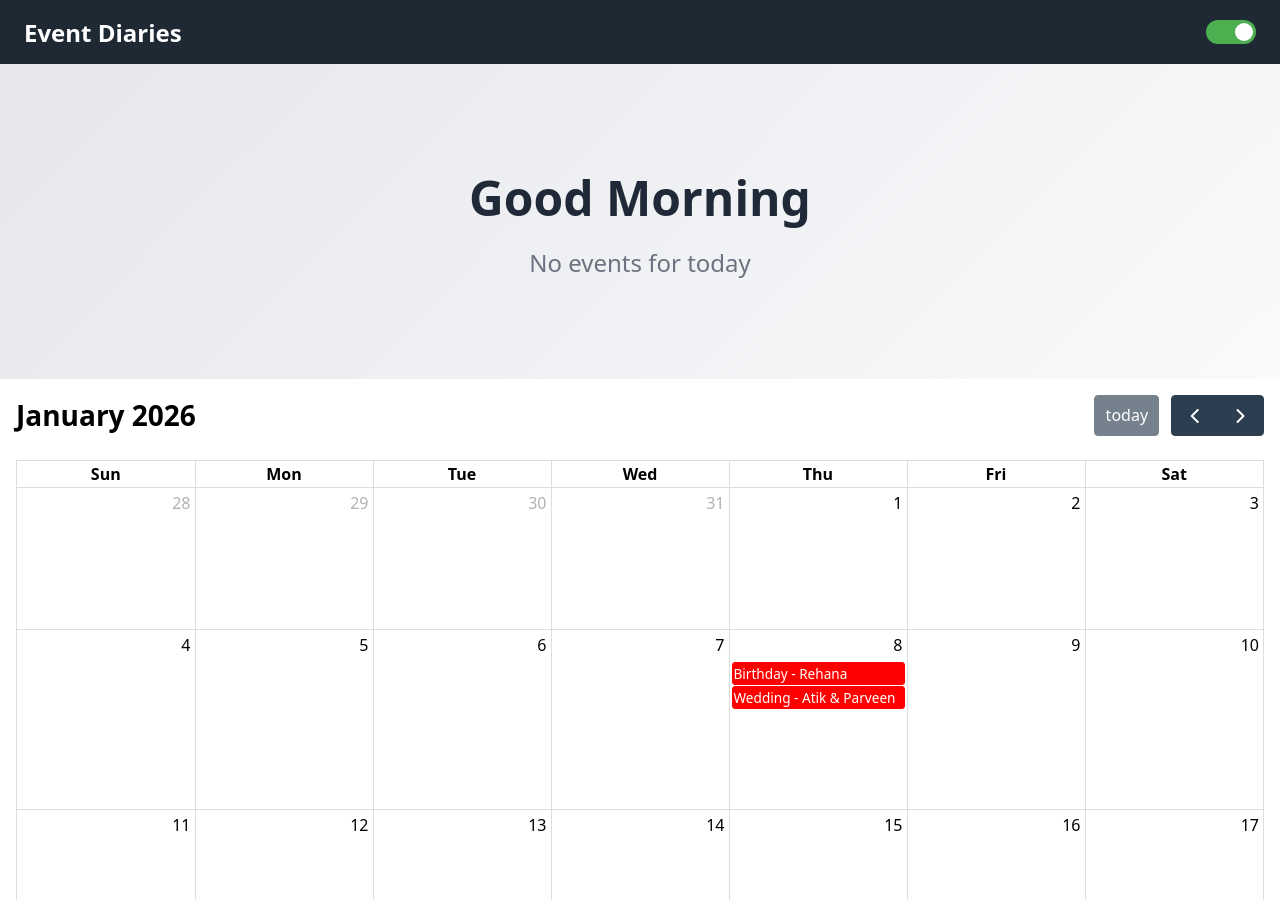
Test: HomePage Component › should switch between Calendar and AgGrid component on toggle switch
The width and height of the screenshot is (1280, 900).
Note: Toggle the switch
Click the checkbox with test id "toggle-switch" at (1231, 32), box [1206,20,1256,44]
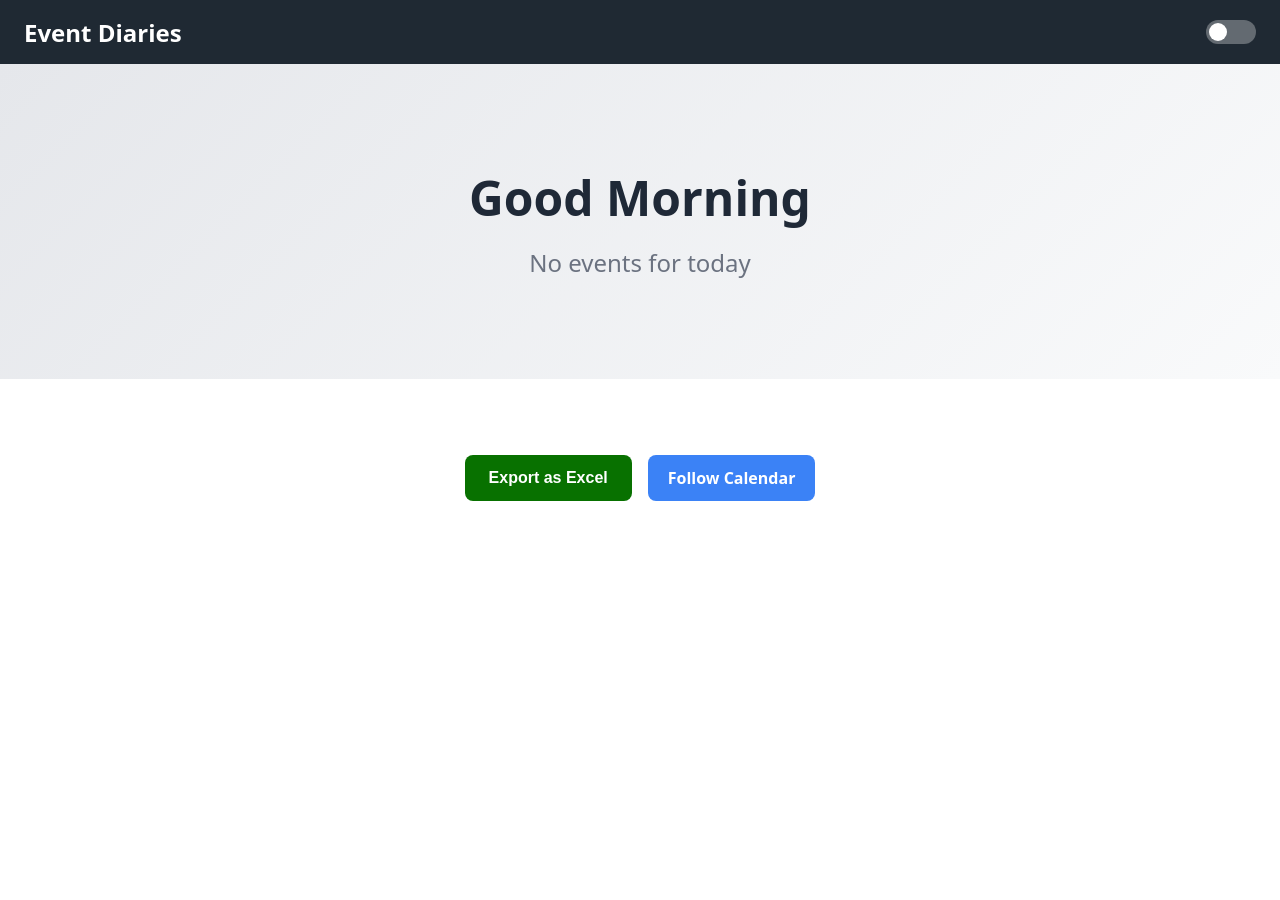
Expected: the element with test id "aggrid-component" is shown, [0,379,1279,537]
